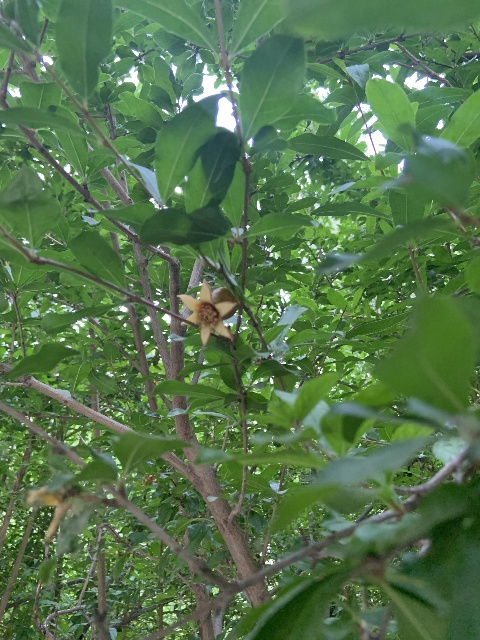early-fruit: (177, 279, 238, 347)
